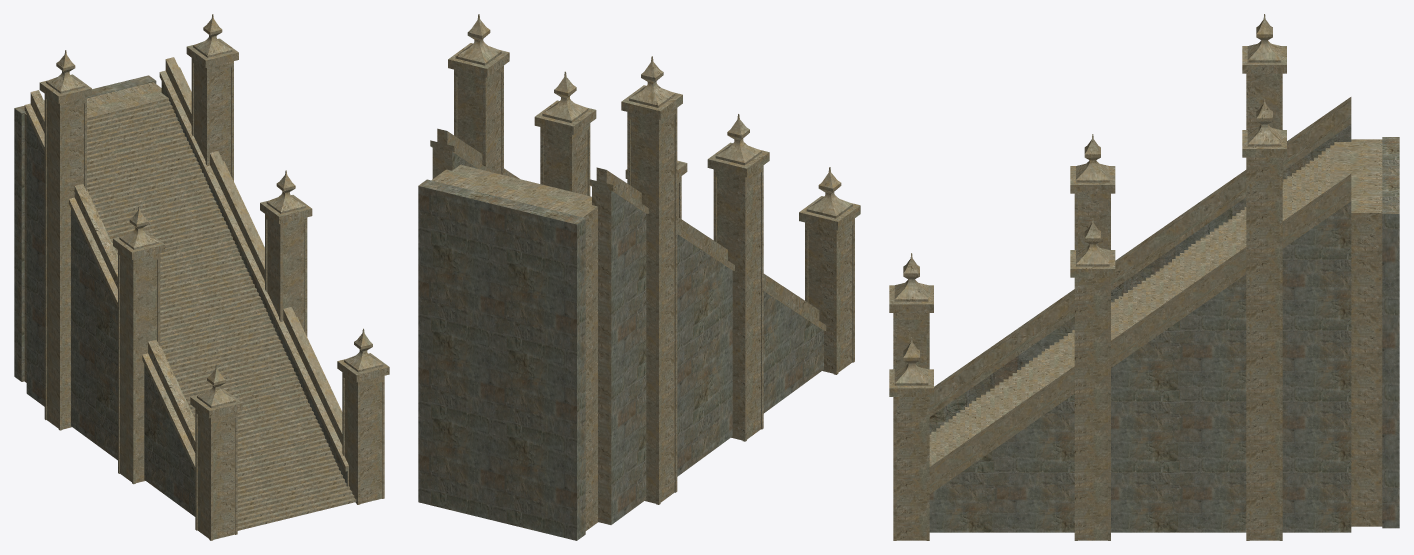
Rendered from fbxStair.fbx.
3 views of the same model, side by side, from view 1: azimuth 30°, elevation 25°; view 2: azimuth 150°, elevation 25°; view 3: azimuth 270°, elevation 25° (orthographic). The views are drawn at different scales.
Visible parts, largest first — view 1: tower26, group7_pCube5, pCube1; view 2: tower26, pCube1, group7_pCube5; view 3: tower26, group7_pCube5, pCube1.
Part boxes in pixels (box(x1,y1,x2,y2)): tower26: box(24, 14, 389, 540); group7_pCube5: box(24, 82, 356, 530); pCube1: box(14, 75, 156, 381); tower26: box(430, 14, 860, 524); pCube1: box(418, 179, 585, 540); group7_pCube5: box(431, 164, 597, 530); tower26: box(889, 14, 1351, 540); group7_pCube5: box(929, 139, 1382, 526); pCube1: box(1382, 137, 1399, 528).
Bounding box in the file's own units: 2.37 × 4.67 × 4.97.
2 materials, 2 textured.
